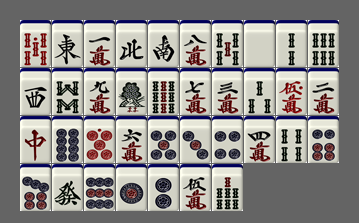0m: (276, 68, 307, 115)
0p: (84, 116, 115, 163)
0s: (20, 20, 51, 67)
1m: (84, 20, 115, 67)
1p: (116, 164, 147, 211)
1s: (116, 68, 147, 115)
1z: (52, 20, 83, 67)
2m: (308, 68, 339, 115)
2p: (148, 164, 179, 211)
2s: (276, 20, 307, 67)
2z: (148, 20, 179, 67)
3m: (212, 68, 243, 115)
3p: (180, 116, 211, 163)
3s: (244, 68, 275, 115)
3z: (20, 68, 51, 115)
4m: (244, 116, 275, 163)
4p: (212, 116, 243, 163)
4s: (276, 116, 307, 163)
4z: (116, 20, 147, 67)
5m: (180, 164, 211, 211)
5p: (148, 116, 179, 163)
5s: (212, 20, 243, 67)
5z: (244, 20, 275, 67)
6m: (116, 116, 147, 163)
6p: (308, 116, 339, 163)
6s: (308, 20, 339, 67)
6z: (52, 164, 83, 211)
7m: (180, 68, 211, 115)
7p: (20, 164, 51, 211)
7s: (212, 164, 243, 211)
7z: (20, 116, 51, 163)
8m: (180, 20, 211, 67)
8p: (52, 116, 83, 163)
8s: (52, 68, 83, 115)
9m: (84, 68, 115, 115)
9p: (84, 164, 115, 211)
9s: (148, 68, 179, 115)
